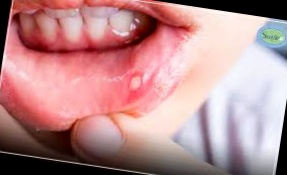Ulcer: (121, 65, 151, 93)
